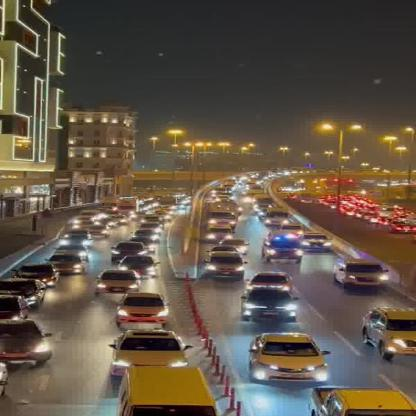priority: (256, 230, 309, 262)
